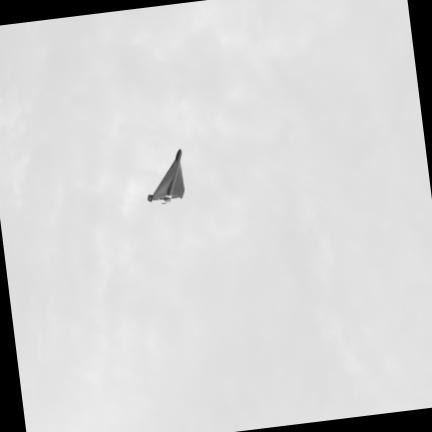Shahed: (147, 150, 184, 203)
